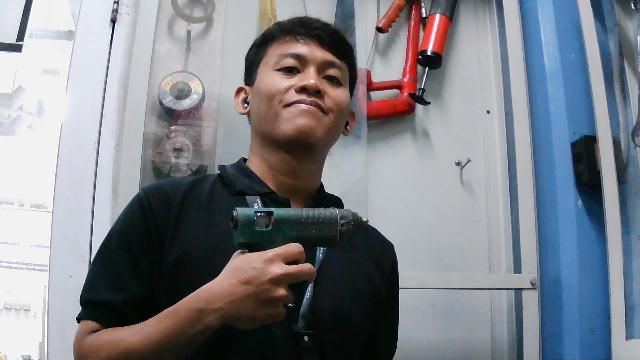gun_lem: (227, 200, 371, 323)
